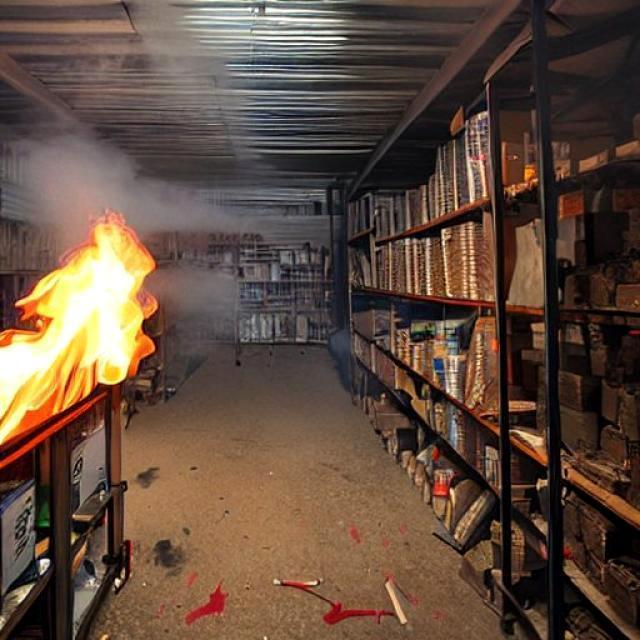Fire: (2, 215, 164, 448)
Smoke: (5, 118, 218, 236), (66, 19, 246, 119), (156, 258, 247, 342)
